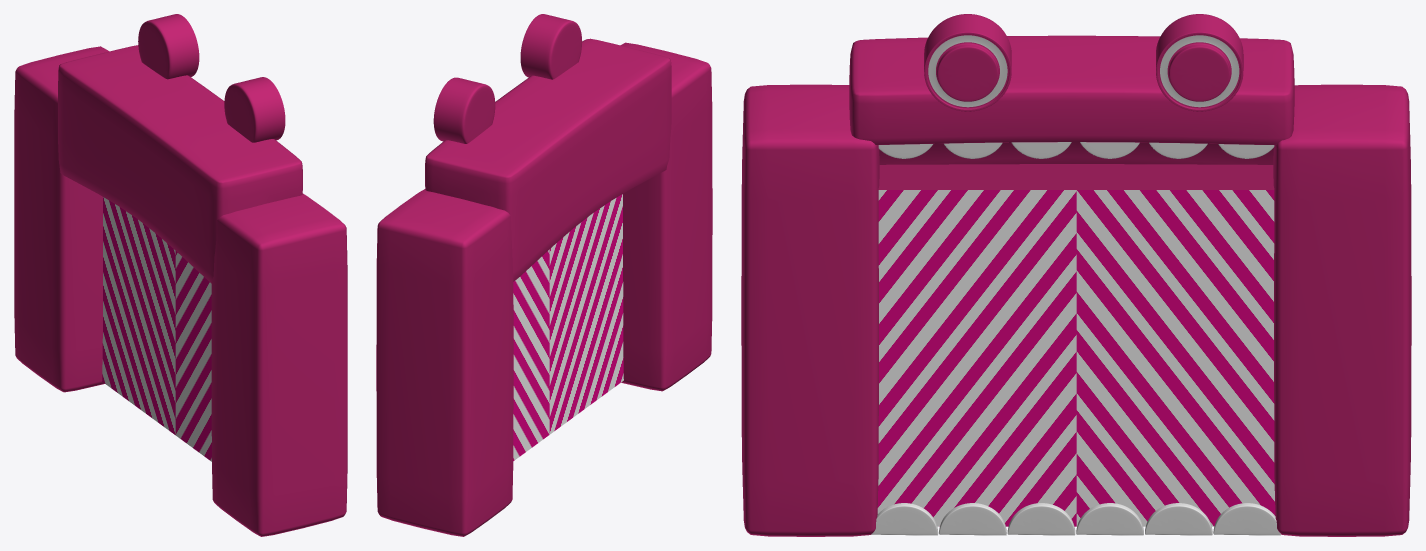
File: Door.fbx
3 views of the same model, side by side, from view 1: azimuth 30°, elevation 25°; view 2: azimuth 150°, elevation 25°; view 3: azimuth 270°, elevation 25° (orthographic). The views are drawn at different scales.
Parts seen in each view (by area): view 1: polySurface56, polySurface69; view 2: polySurface56, polySurface69; view 3: polySurface56, polySurface69.
Boxes of the visible parts, left/top/right/bottom form: polySurface56: left=14, top=14, right=347, bottom=536; polySurface69: left=102, top=197, right=211, bottom=461; polySurface56: left=376, top=14, right=712, bottom=536; polySurface69: left=513, top=194, right=623, bottom=460; polySurface56: left=741, top=14, right=1411, bottom=536; polySurface69: left=877, top=164, right=1275, bottom=526.
Size of the model in its own units: 141 by 521 by 619.
5 materials, 1 textured.
